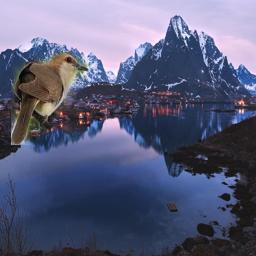Cuckoo: (11, 52, 89, 145)
